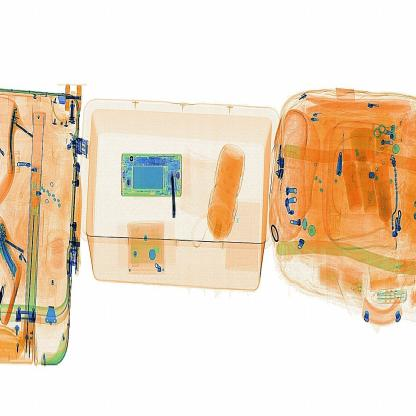knife: (162, 164, 187, 225)
